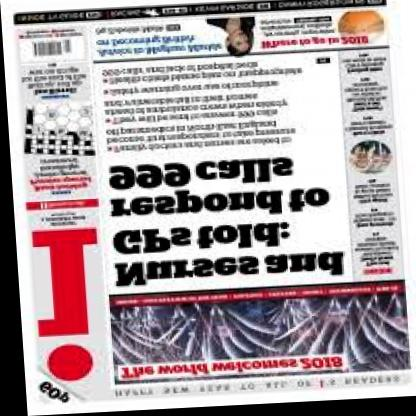Paper: (9, 0, 416, 406)
